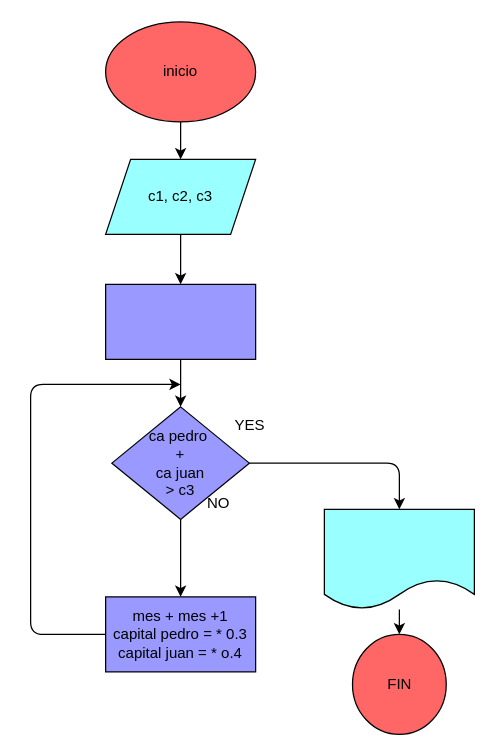
The diagram is 496 pixels wide and 756 high, and some of its shapes have lost their labels. The centre of each missing label's shape, as x and y in pixels:
capital peddro = c1 capitaljuan = c2: the point at 180,321
mostrar mes =: the point at 398,558
